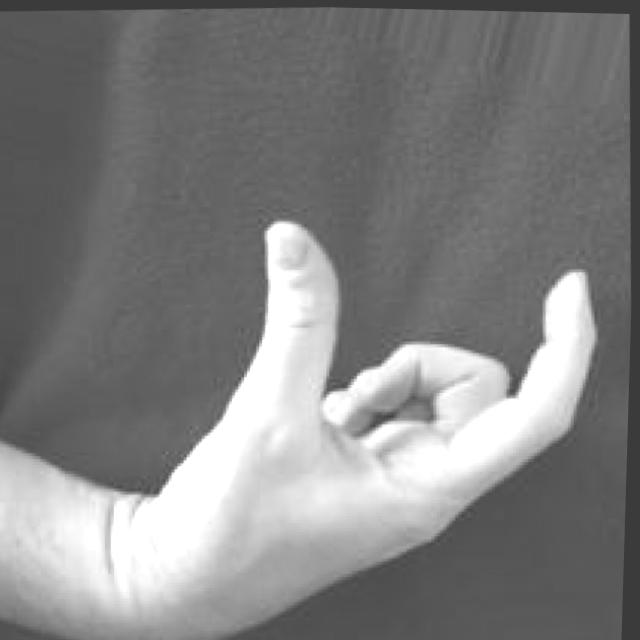U: (135, 188, 612, 640)
